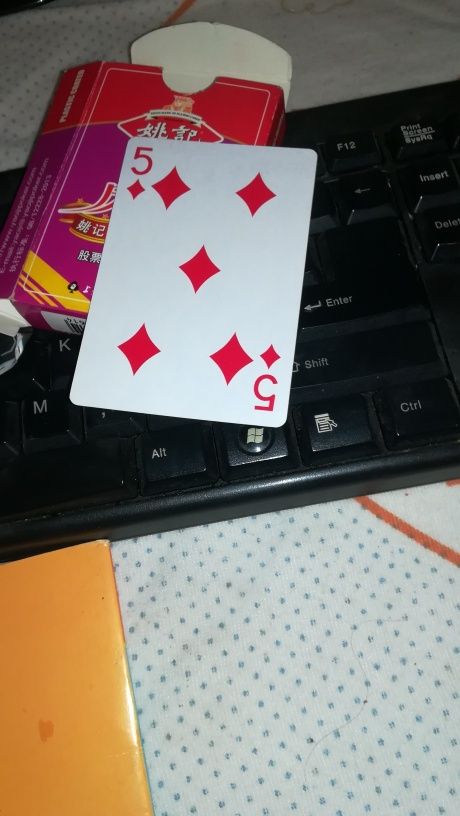fk 5: (69, 134, 320, 433)
